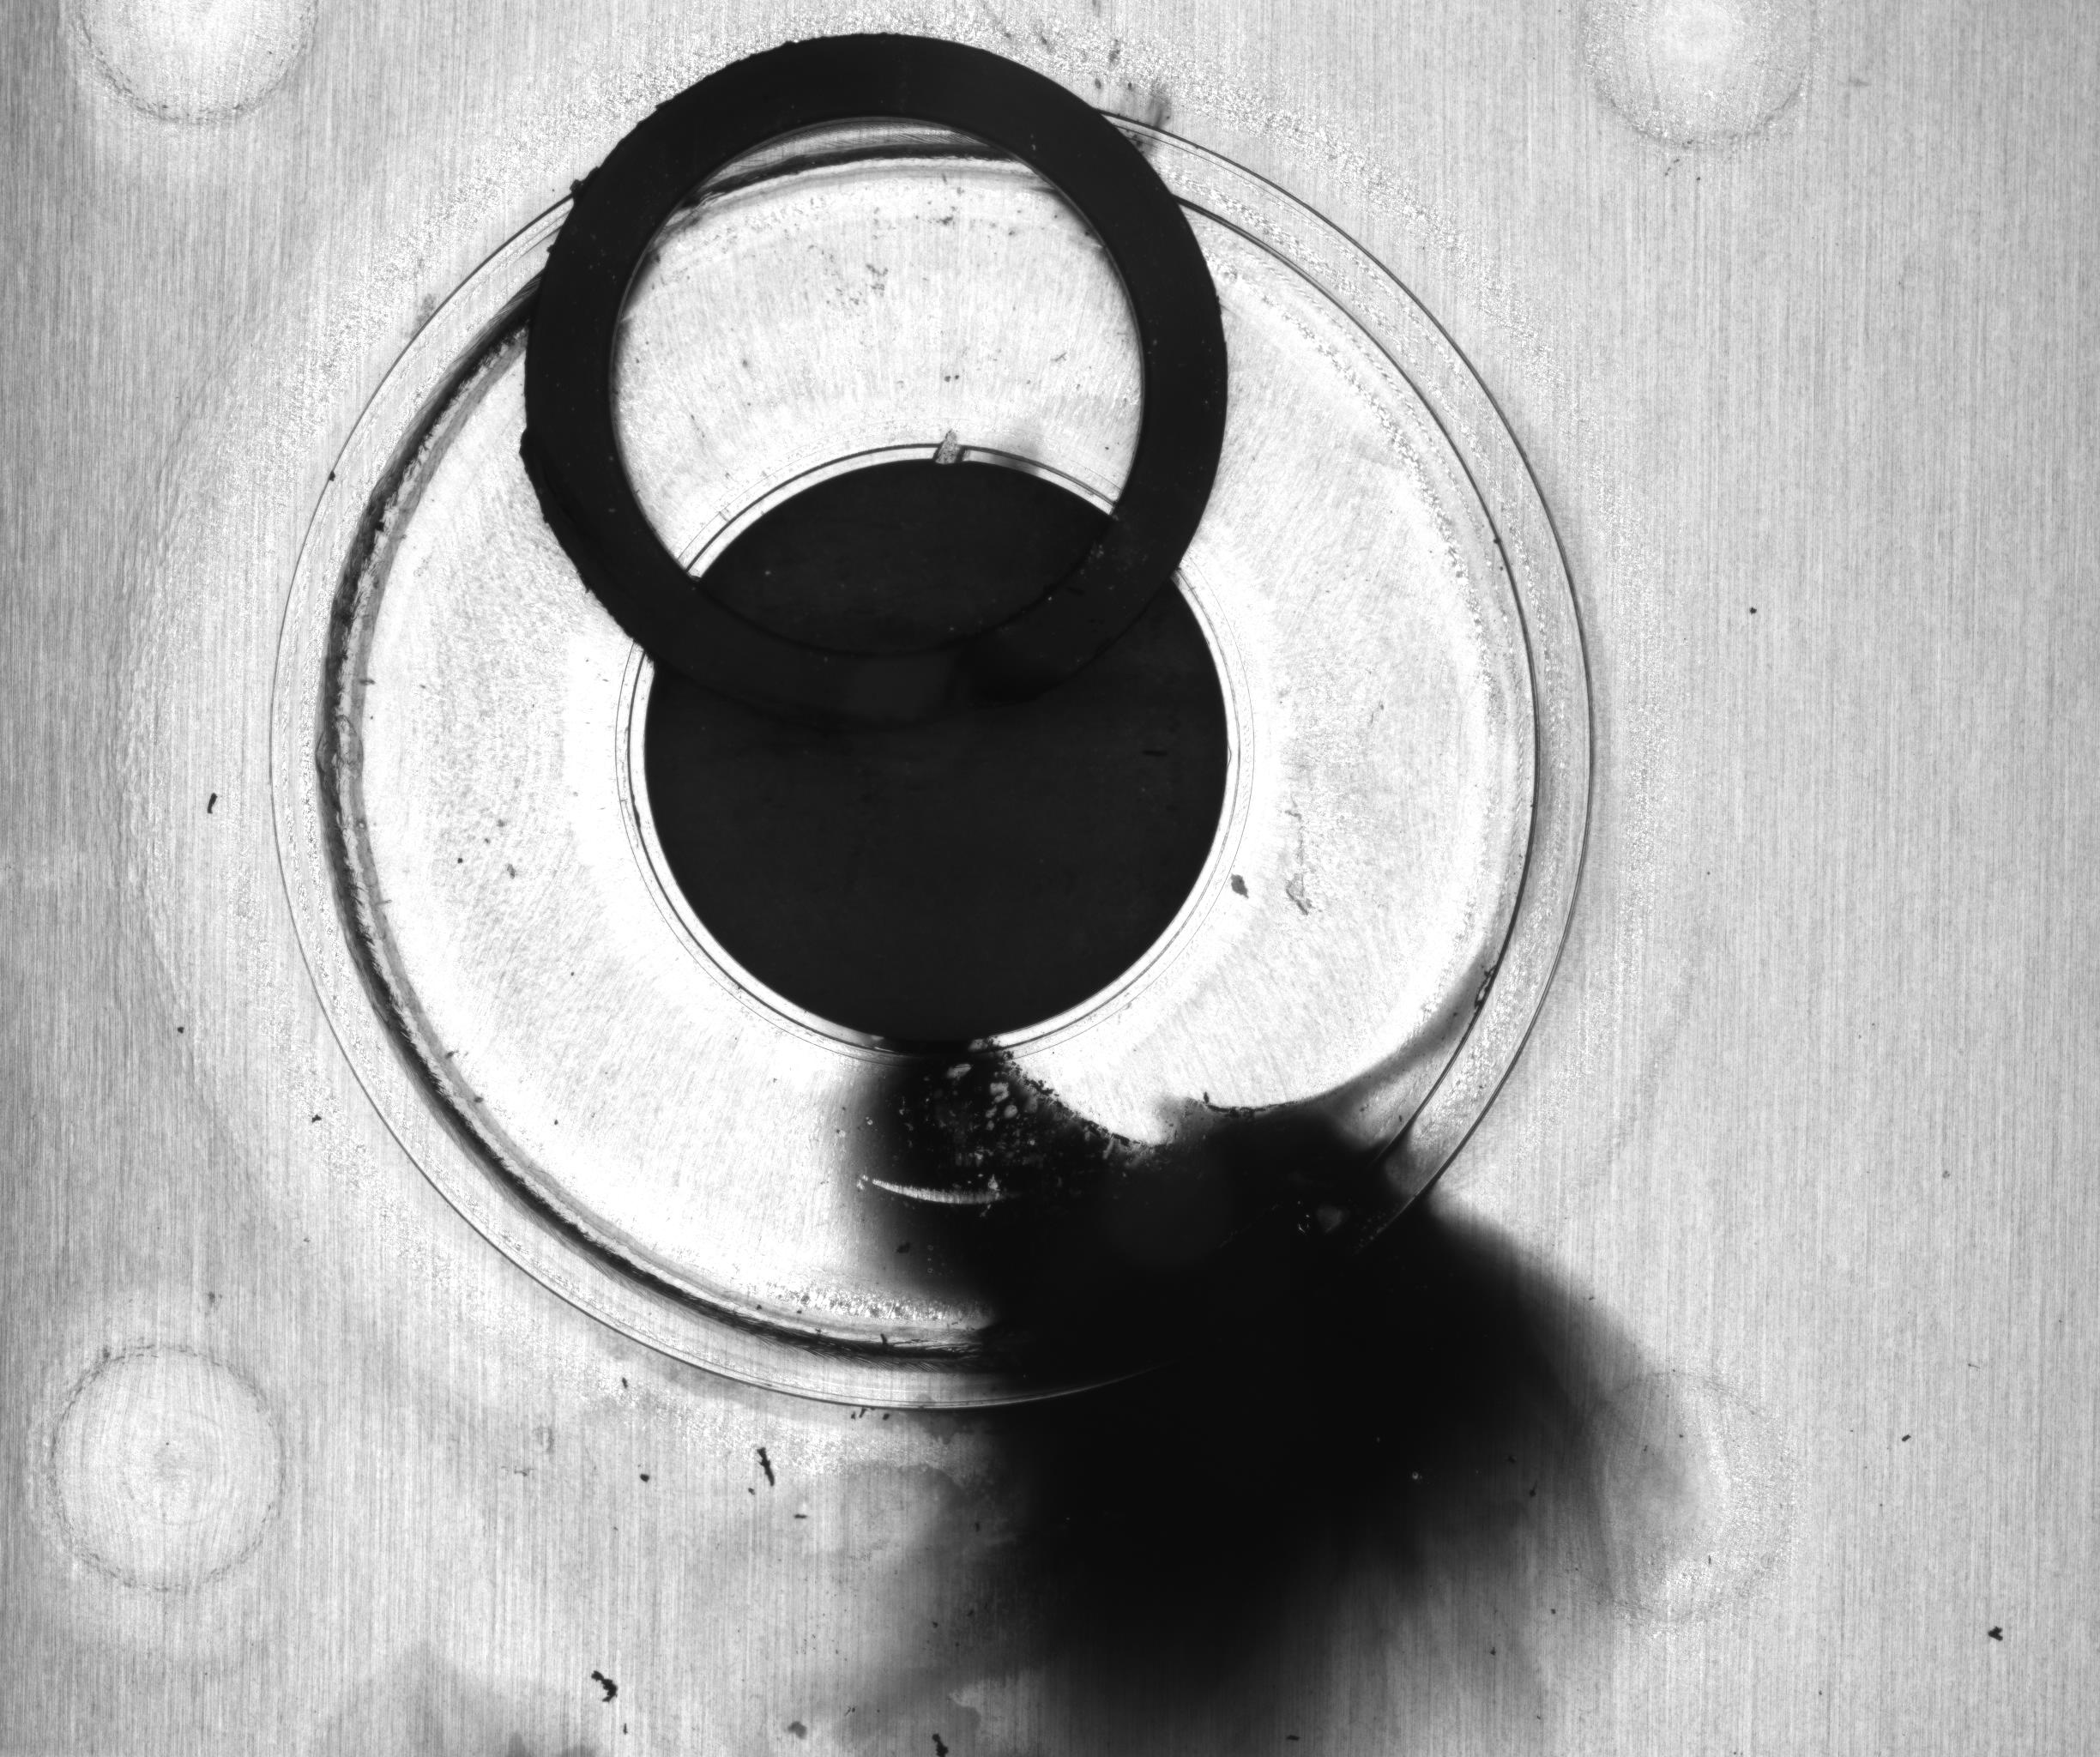burn: (788, 1080, 1755, 1734)
